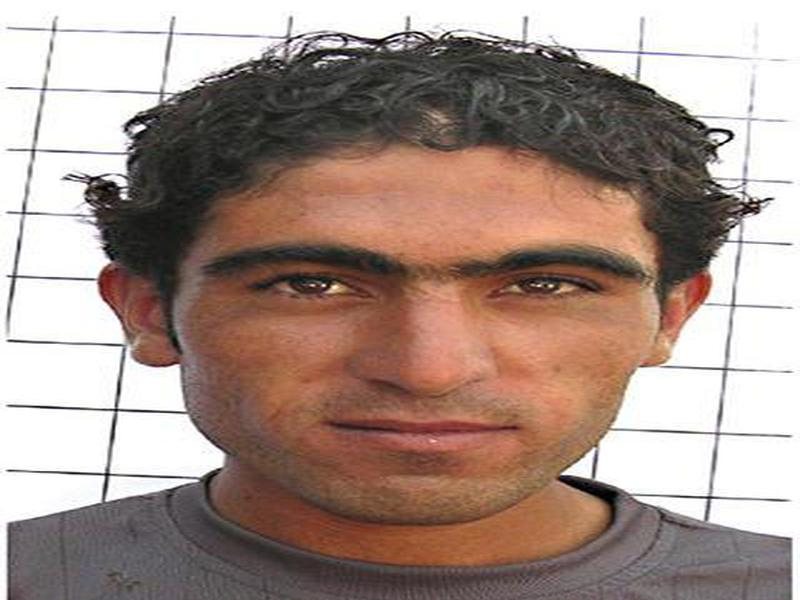without_mask: (178, 202, 657, 523)
